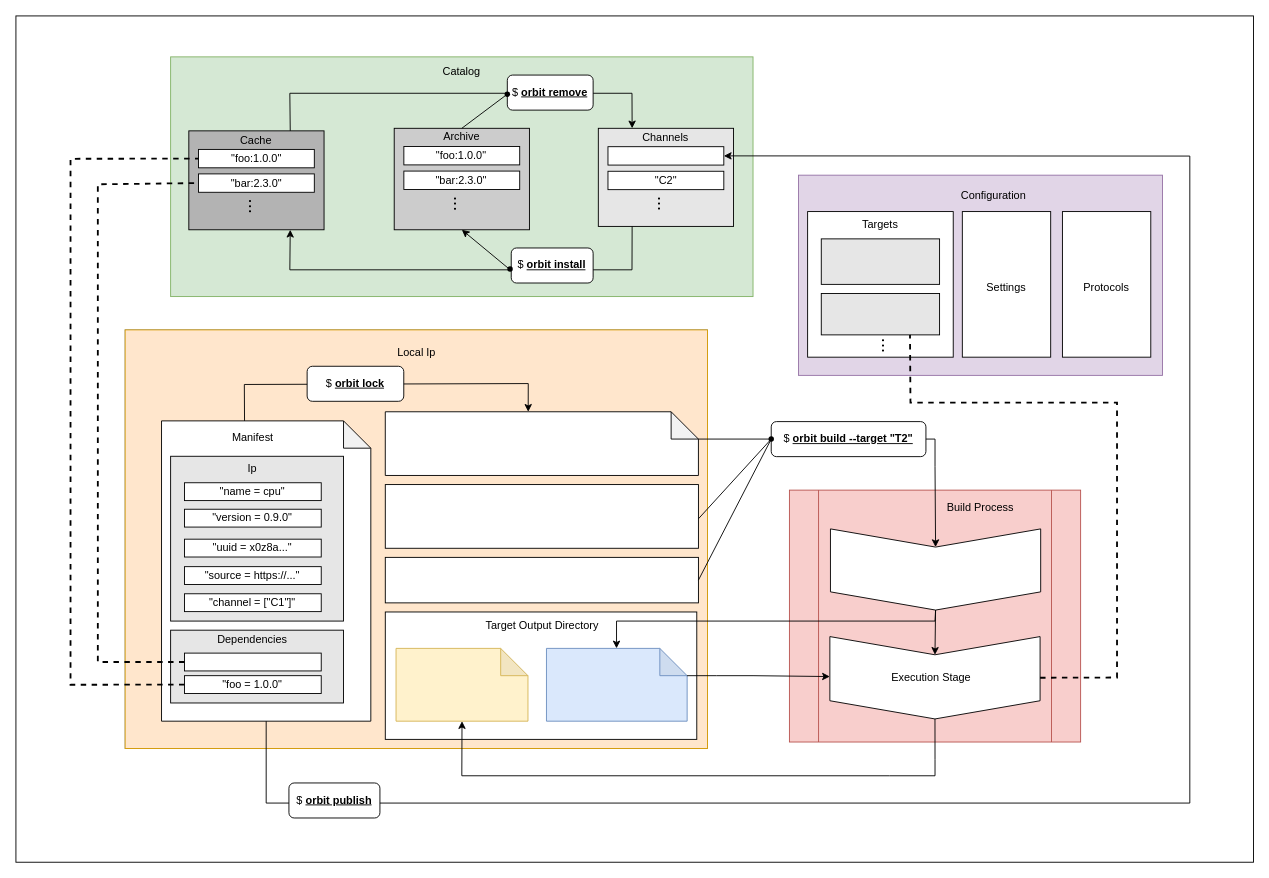
Some shapes in this 1269 by 878 pixel diagram are drawn without their labels. Each missing label, with the centre of its shape:
"bar = 2.3.0": point 252,661
"C1": point 665,155
"name = T1" "command = python" "args = ["synth.py"]": point 880,261
"name = T2" "command = make" "args = ["sim"]": point 880,314
Artifacts: point 461,684
Auxiliary Files: point 541,579
Blueprint: point 616,684
Lockfile: point 541,443
Planning Stage: point 935,569
Source Files: point 541,516
